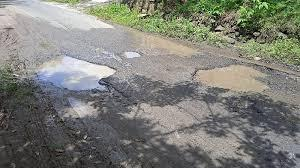Pothole: (2, 44, 124, 113), (191, 63, 278, 96), (123, 32, 204, 62)
